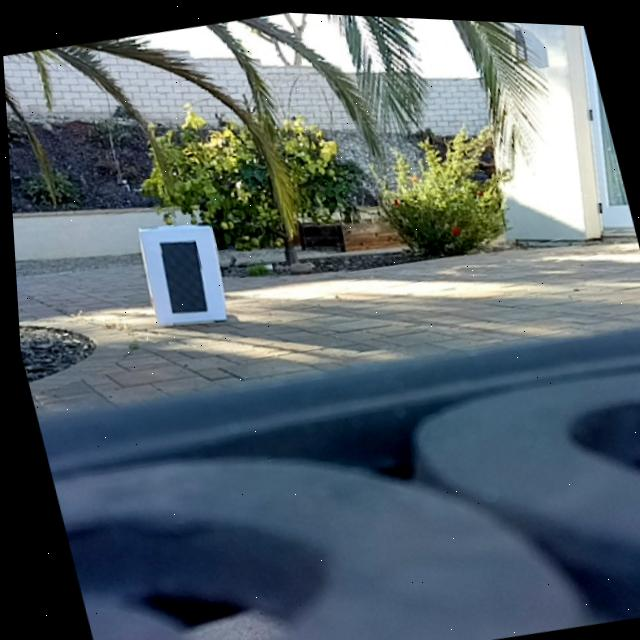led: (150, 232, 210, 318)
